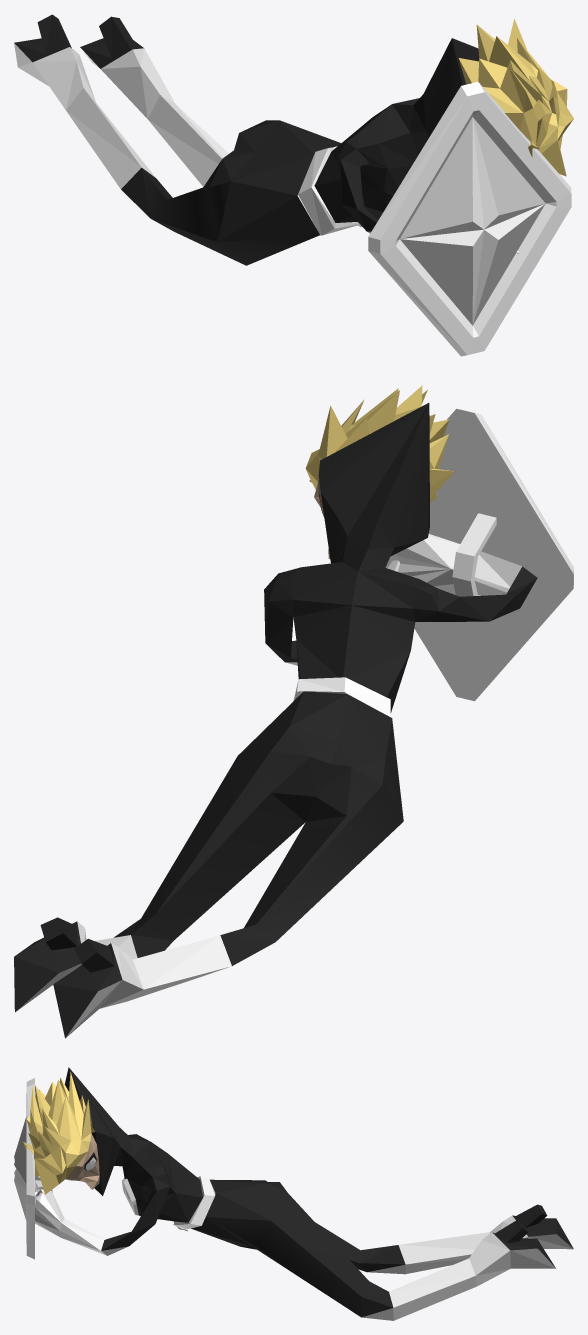
File: Dash.fbx
3 renders of one model, top to bottom at view 1: azimuth 30°, elevation 25°; view 2: azimuth 150°, elevation 25°; view 3: azimuth 270°, elevation 25°, orthographic. The views are drawn at different scales.
Visible parts, largest first — view 1: DiamondGirl_Dash_:pPyramid4; view 2: DiamondGirl_Dash_:pPyramid4; view 3: DiamondGirl_Dash_:pPyramid4.
Part boxes in pixels (x1,y1,x2,y2): DiamondGirl_Dash_:pPyramid4: (14,14,573,356); DiamondGirl_Dash_:pPyramid4: (14,385,573,1038); DiamondGirl_Dash_:pPyramid4: (14,1067,573,1320).
Bounding box in the file's own units: 49.93 × 78.17 × 164.
